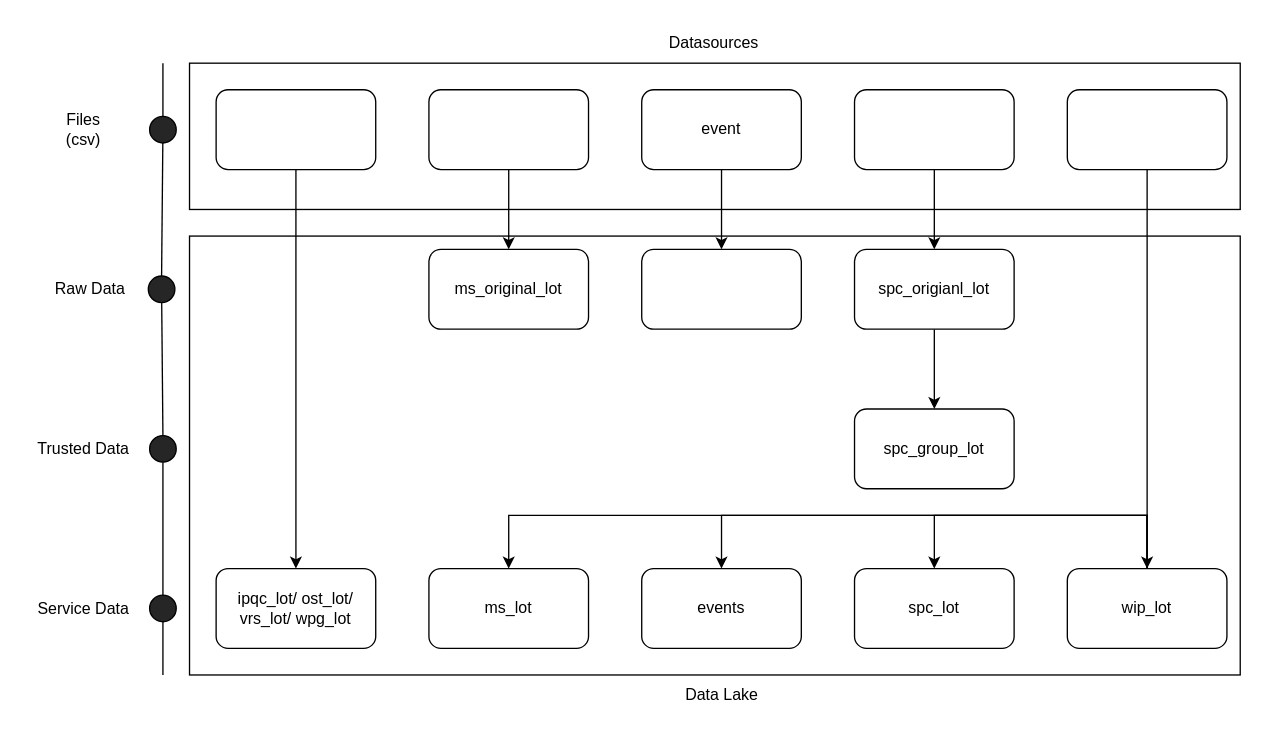
Some shapes in this 1264 by 737 pixel diagram are drawn without their labels. The centre of each missing label's shape, as x and y in pixels:
eis: the point at 508,129
events_original: the point at 720,288
ipqc/ ost/ vrs/ wpg: the point at 295,129
mes: the point at 1146,129
spc: the point at 933,129
